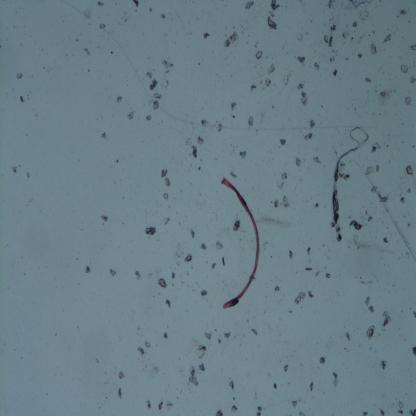Background material: (267, 0, 281, 30), (224, 28, 240, 50), (187, 364, 200, 389), (339, 166, 353, 187), (159, 167, 172, 188), (147, 359, 160, 379), (143, 222, 158, 239), (364, 294, 376, 314), (349, 217, 365, 232), (146, 70, 158, 90), (195, 343, 208, 361), (294, 289, 307, 307), (158, 398, 173, 413), (381, 309, 392, 327), (349, 0, 373, 8), (299, 89, 309, 108), (365, 323, 376, 340), (278, 173, 288, 191), (359, 276, 373, 288), (331, 370, 340, 388), (378, 90, 394, 100), (161, 58, 171, 74), (232, 218, 242, 233), (324, 34, 334, 49), (156, 276, 168, 288), (134, 344, 146, 356), (80, 43, 91, 56), (403, 93, 413, 107), (382, 30, 392, 44), (369, 41, 379, 55), (114, 92, 124, 106), (304, 128, 314, 142), (100, 128, 110, 142), (134, 268, 142, 285), (282, 196, 291, 211), (222, 329, 233, 341), (246, 115, 256, 128), (190, 145, 198, 161), (282, 72, 290, 88), (83, 6, 92, 20), (373, 141, 382, 155), (199, 118, 210, 129), (213, 408, 228, 416), (290, 396, 298, 411), (297, 53, 307, 65), (254, 49, 264, 61), (125, 110, 135, 122), (14, 70, 24, 82), (366, 164, 375, 177), (363, 74, 372, 87), (200, 240, 209, 253), (267, 62, 276, 75), (397, 400, 405, 414), (188, 226, 196, 240), (295, 156, 303, 170), (399, 63, 409, 74), (245, 0, 256, 10), (10, 164, 20, 175), (100, 213, 110, 224), (238, 149, 248, 160), (198, 361, 207, 373), (204, 330, 213, 342), (143, 338, 152, 350), (202, 29, 211, 41), (313, 155, 322, 167), (163, 298, 172, 310), (250, 388, 258, 401), (398, 7, 408, 17), (272, 199, 281, 210), (308, 118, 317, 129), (183, 253, 192, 264), (342, 28, 351, 39), (197, 135, 206, 146), (199, 289, 210, 298), (160, 7, 167, 21), (371, 182, 379, 194), (330, 51, 338, 63), (215, 240, 223, 252), (162, 329, 170, 341), (264, 78, 272, 90), (329, 22, 337, 34), (217, 121, 225, 133), (407, 166, 415, 178), (23, 169, 32, 179), (108, 268, 118, 277), (117, 370, 126, 380), (153, 92, 164, 100), (306, 245, 314, 256), (19, 93, 27, 104), (152, 100, 160, 111), (250, 326, 258, 337), (256, 404, 264, 415), (318, 354, 326, 365), (380, 358, 387, 370), (84, 264, 91, 276), (118, 386, 124, 400), (146, 398, 153, 410), (283, 362, 290, 374), (185, 136, 193, 146), (344, 332, 352, 342), (230, 404, 238, 414), (272, 382, 280, 392), (130, 0, 140, 8), (380, 194, 388, 204), (308, 288, 314, 301), (229, 379, 235, 392), (288, 249, 294, 262), (313, 61, 320, 72), (374, 163, 380, 175), (309, 381, 315, 393), (408, 405, 416, 414), (230, 171, 238, 180), (305, 266, 314, 274), (273, 285, 282, 293), (145, 113, 153, 122), (332, 66, 338, 78), (409, 44, 416, 54), (409, 75, 416, 85), (315, 269, 322, 279), (325, 270, 332, 280), (357, 51, 364, 61), (164, 215, 170, 226), (378, 406, 386, 414), (352, 21, 360, 29), (162, 192, 170, 200), (99, 22, 107, 30), (210, 262, 218, 270), (280, 138, 287, 147), (96, 0, 105, 7), (230, 101, 237, 110), (170, 271, 177, 280), (356, 240, 361, 252), (411, 345, 416, 357), (217, 336, 223, 346), (313, 201, 320, 209), (367, 216, 375, 223), (93, 356, 100, 364), (382, 238, 390, 245), (249, 84, 256, 92), (401, 196, 407, 205), (297, 410, 306, 416), (222, 255, 226, 268), (406, 186, 412, 194), (405, 220, 411, 228), (298, 84, 304, 92), (108, 50, 115, 56), (361, 409, 367, 416), (412, 309, 416, 319), (232, 394, 236, 402), (115, 157, 119, 164), (262, 241, 268, 245), (197, 167, 202, 171), (148, 8, 152, 13), (321, 243, 325, 247), (198, 61, 200, 66), (270, 255, 272, 259)
Cotton: (222, 176, 259, 312), (331, 125, 369, 242)
